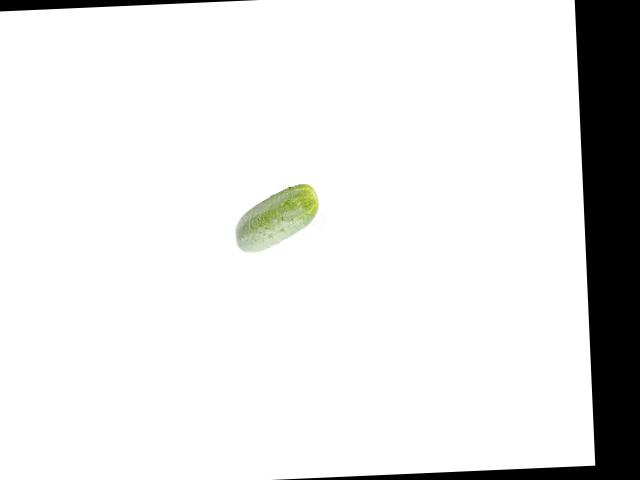cucumber: (232, 184, 320, 253)
